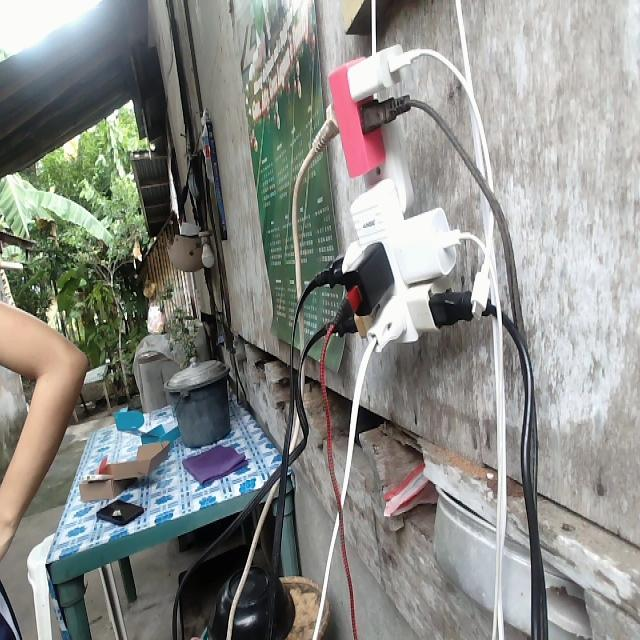-: (305, 39, 464, 352)
